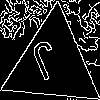J: (27, 38, 66, 91)
